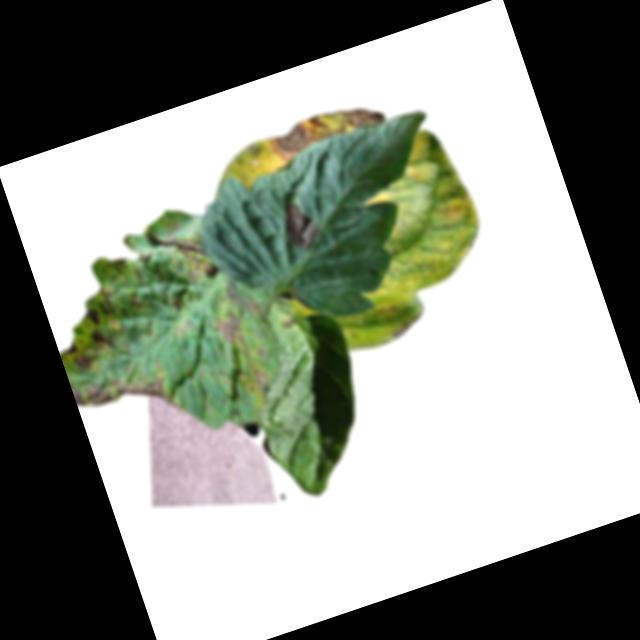Early_blight: (263, 92, 388, 165), (70, 355, 172, 433), (143, 215, 216, 292), (274, 194, 327, 256), (57, 334, 101, 380), (79, 302, 115, 355), (94, 279, 130, 326), (212, 308, 249, 351), (241, 359, 274, 402), (126, 286, 147, 311), (107, 253, 129, 273), (166, 296, 183, 313), (279, 313, 294, 328)
